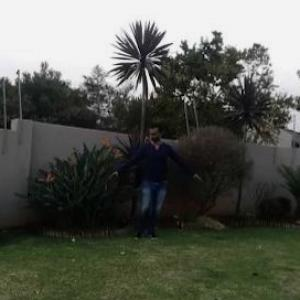land: (99, 116, 205, 250)
